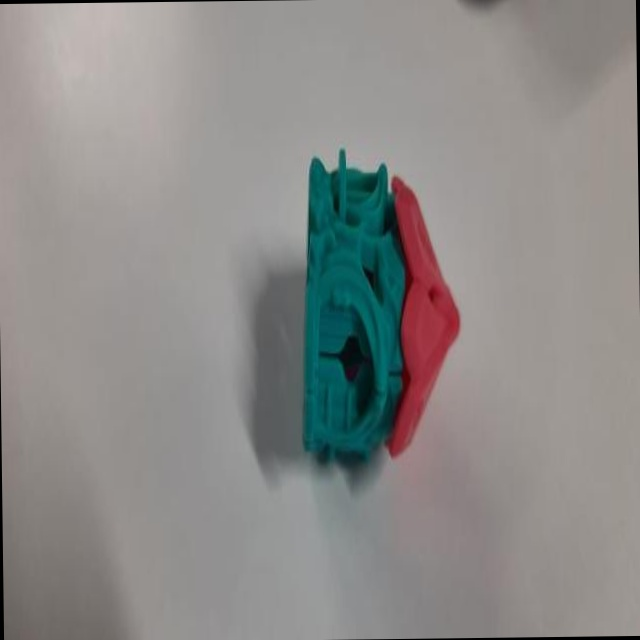House: (288, 132, 470, 483)
